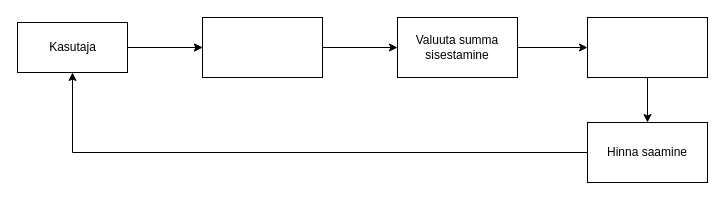
Image size: 725x200. Some labels were removed from this diagram. The shapes that lost their labels are listed below. From the top down, each one's centre as x and y in pixels, then its label:
At point (262, 47): "Valuutaühiku valimine".
At point (647, 47): "Kalkulaatori käivitamine".
